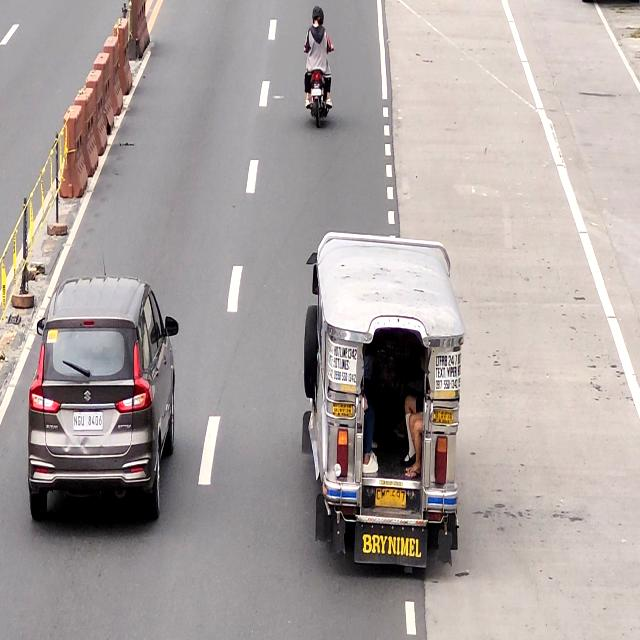Car: (30, 278, 174, 512)
Jeep: (312, 234, 463, 566)
License-Plate: (374, 482, 411, 514), (73, 409, 104, 432)
Motorcycle: (303, 7, 334, 122)
